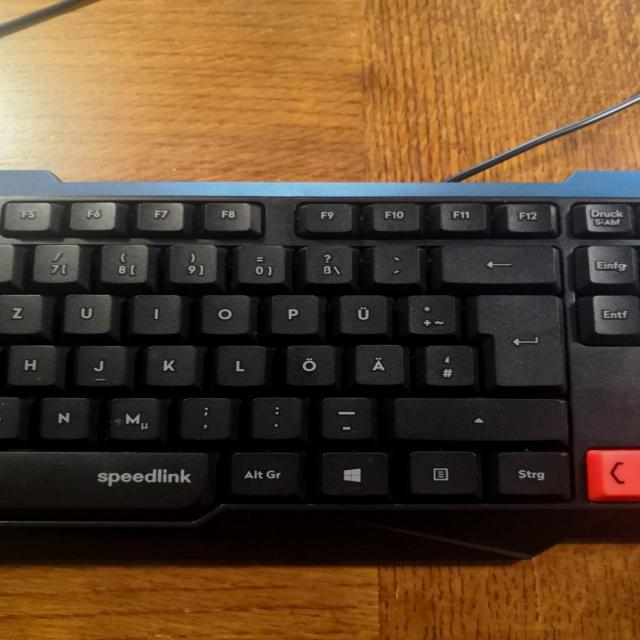0: (231, 242, 285, 284)
6: (0, 243, 18, 283)
7: (28, 241, 80, 283)
8: (95, 241, 148, 283)
9: (164, 241, 218, 283)
accent: (367, 242, 419, 284)
ae: (350, 341, 404, 386)
altgr-right: (225, 449, 301, 497)
b: (1, 393, 21, 438)
comma: (175, 394, 231, 439)
del: (431, 241, 559, 284)
enter: (469, 289, 565, 387)
h: (3, 342, 57, 386)
hash: (420, 342, 474, 386)
i: (127, 292, 181, 334)
j: (72, 342, 126, 387)
k: (142, 342, 196, 386)
keyboard: (0, 172, 640, 542)
l: (212, 342, 266, 386)
m: (103, 394, 161, 440)
minus: (317, 394, 373, 439)
n: (34, 395, 90, 439)
o: (197, 292, 251, 334)
oe: (281, 342, 335, 386)
p: (265, 292, 319, 334)
plus: (402, 292, 454, 334)
point: (246, 394, 302, 438)
shift-right: (384, 395, 567, 441)
space: (1, 447, 211, 519)
ss: (299, 243, 353, 284)
strg-right: (491, 449, 571, 497)
u: (59, 291, 111, 334)
ue: (334, 292, 388, 334)
z: (1, 292, 43, 334)
